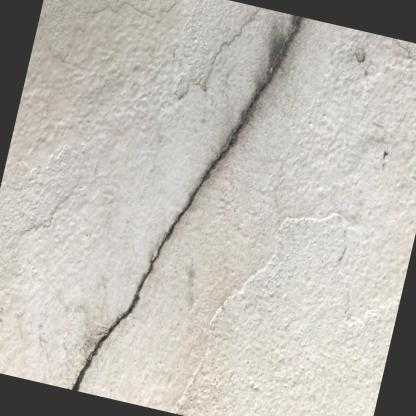crack: (69, 15, 304, 391)
